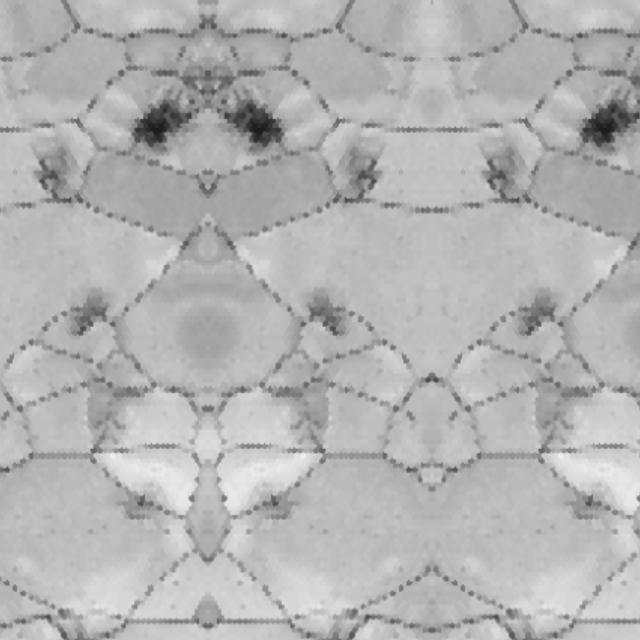good_void: (185, 48, 304, 177), (113, 46, 228, 177), (575, 65, 640, 160), (552, 474, 615, 537), (103, 474, 166, 537), (249, 473, 311, 535), (338, 140, 396, 204), (472, 142, 525, 204), (23, 142, 76, 204), (516, 285, 566, 343), (67, 285, 117, 343), (300, 285, 349, 343), (447, 408, 461, 424), (405, 409, 419, 424), (0, 408, 12, 424), (244, 524, 257, 538), (160, 525, 174, 538), (609, 525, 622, 538), (459, 168, 468, 177), (10, 168, 19, 177), (399, 168, 406, 177)
